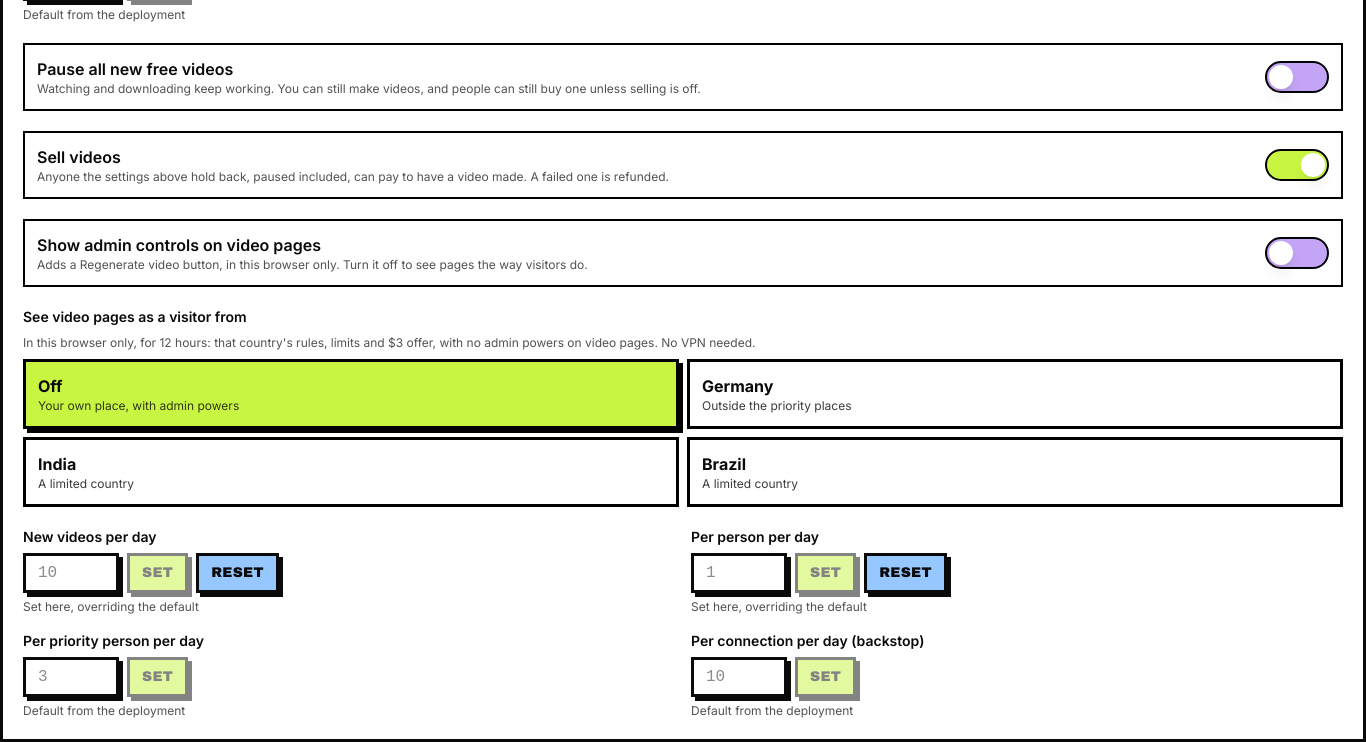
video making controls › caps a limit where the server does, and shows why a save failed
(page scrolled)
Type "1001" into the field named "Per person per day".
click(739, 573); type("1001")  # box left=691, top=553, right=787, bottom=593
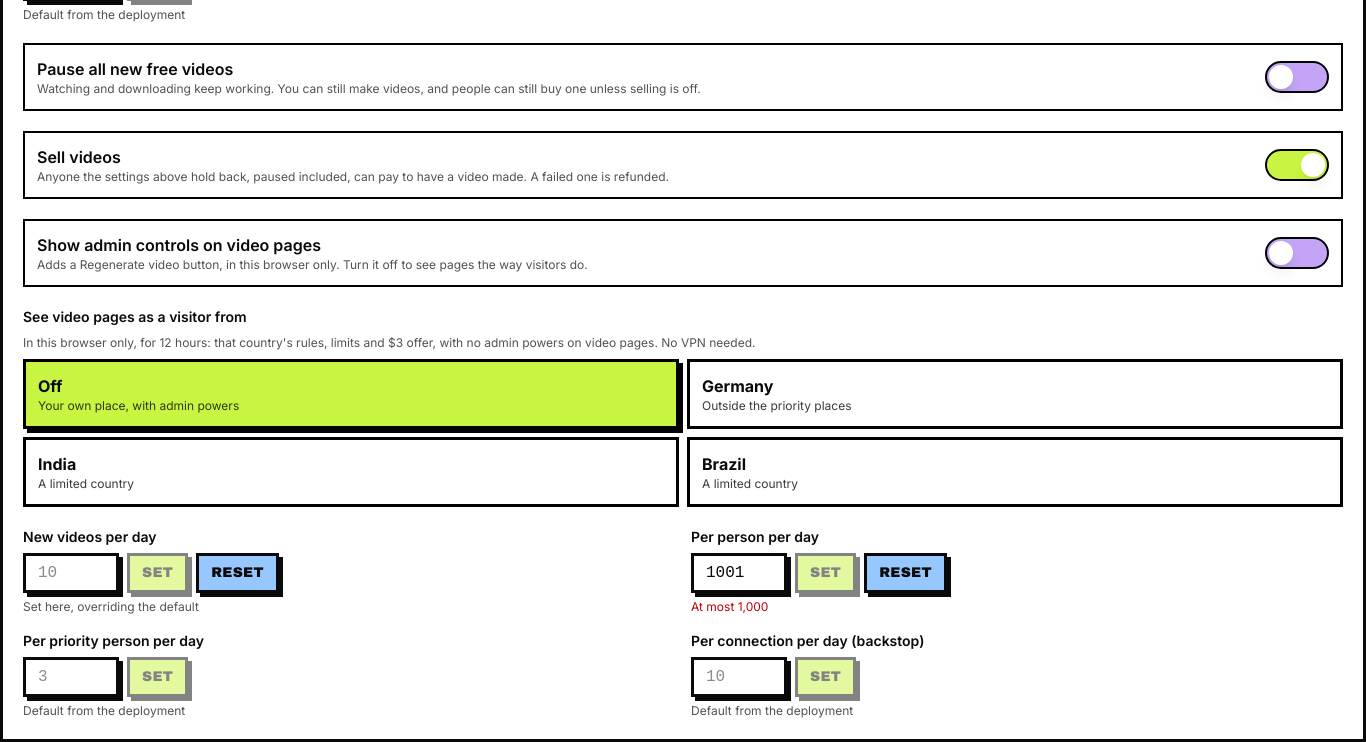
Expected: the button named "Set per person per day" is disabled, left=795, top=553, right=856, bottom=593
Expected: the message reads "At most 1,000", left=691, top=599, right=768, bottom=614
Replace the text in the field named "Per person per day" with "1000" at (739, 573), box left=691, top=553, right=787, bottom=593
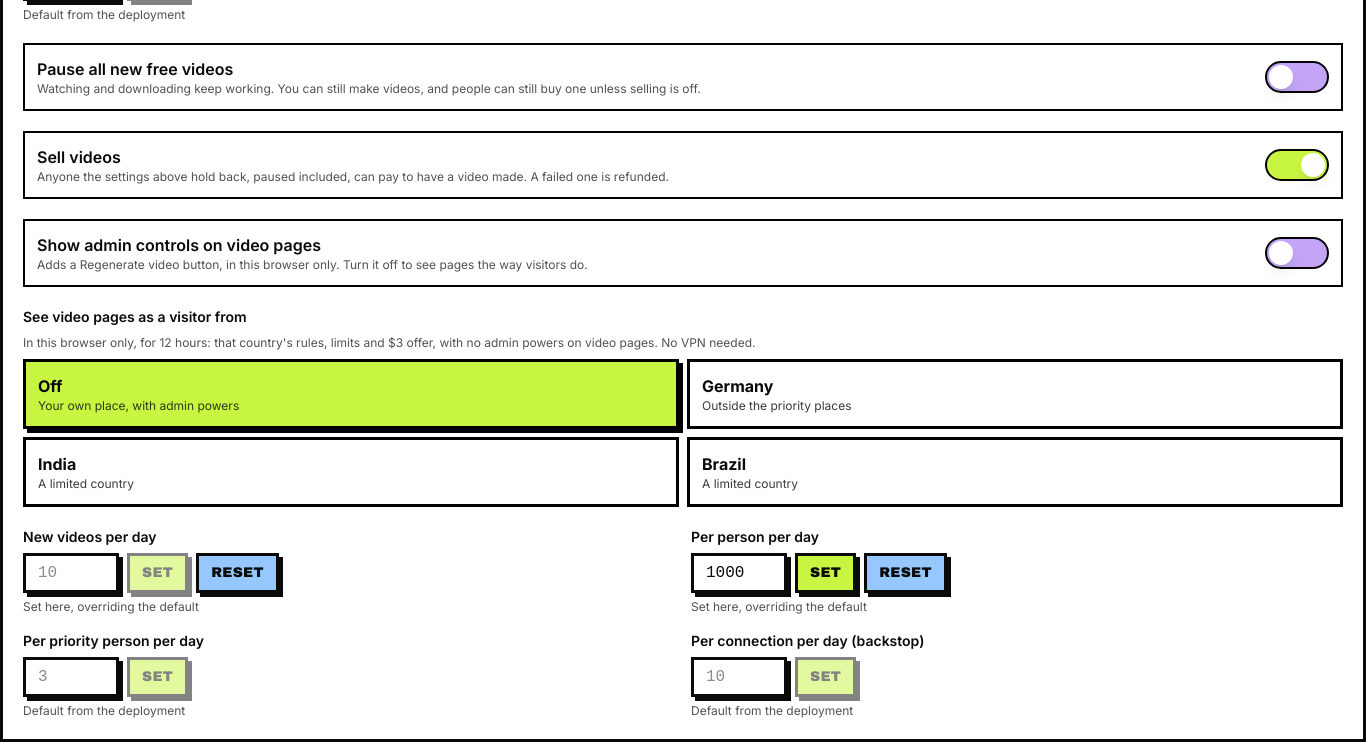
Click the button named "Set per person per day".
click(826, 573)  # box left=795, top=553, right=856, bottom=593
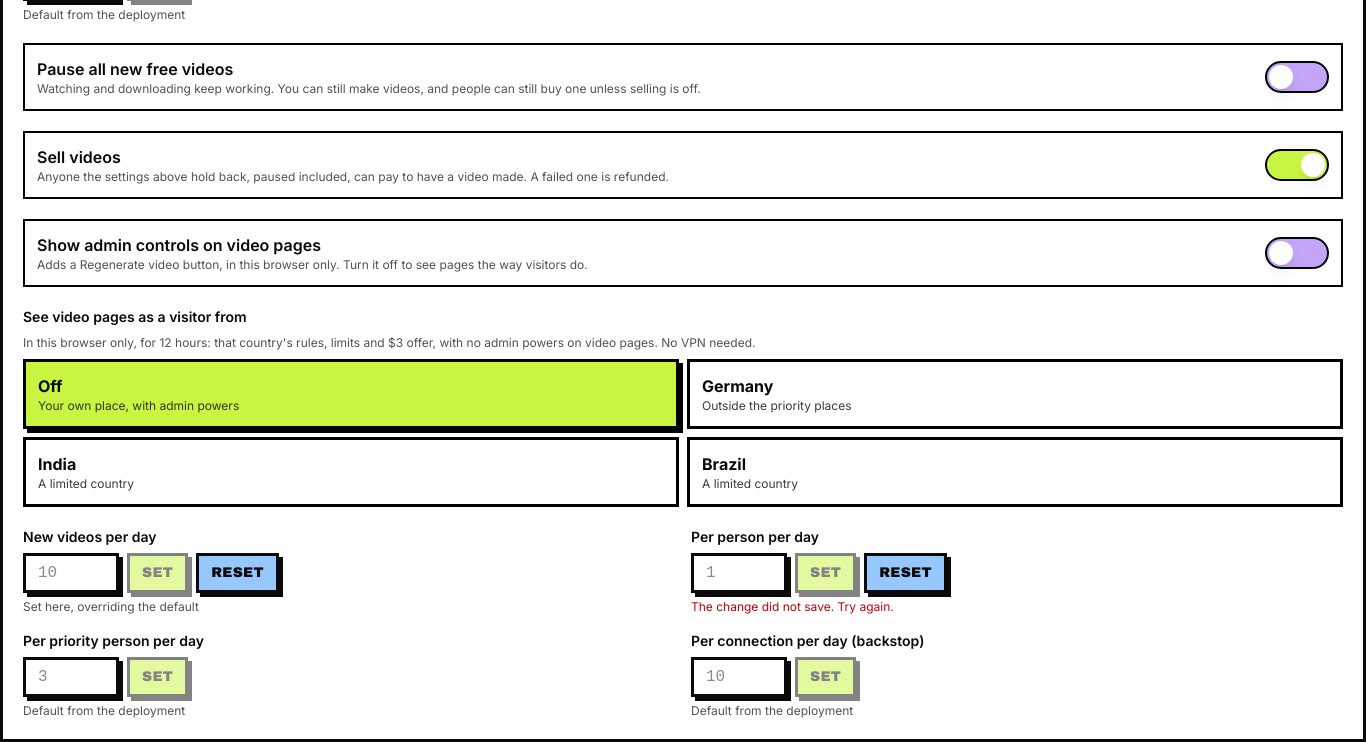
Expected: the message reads "The change did not save. Try again.", left=691, top=599, right=894, bottom=614
